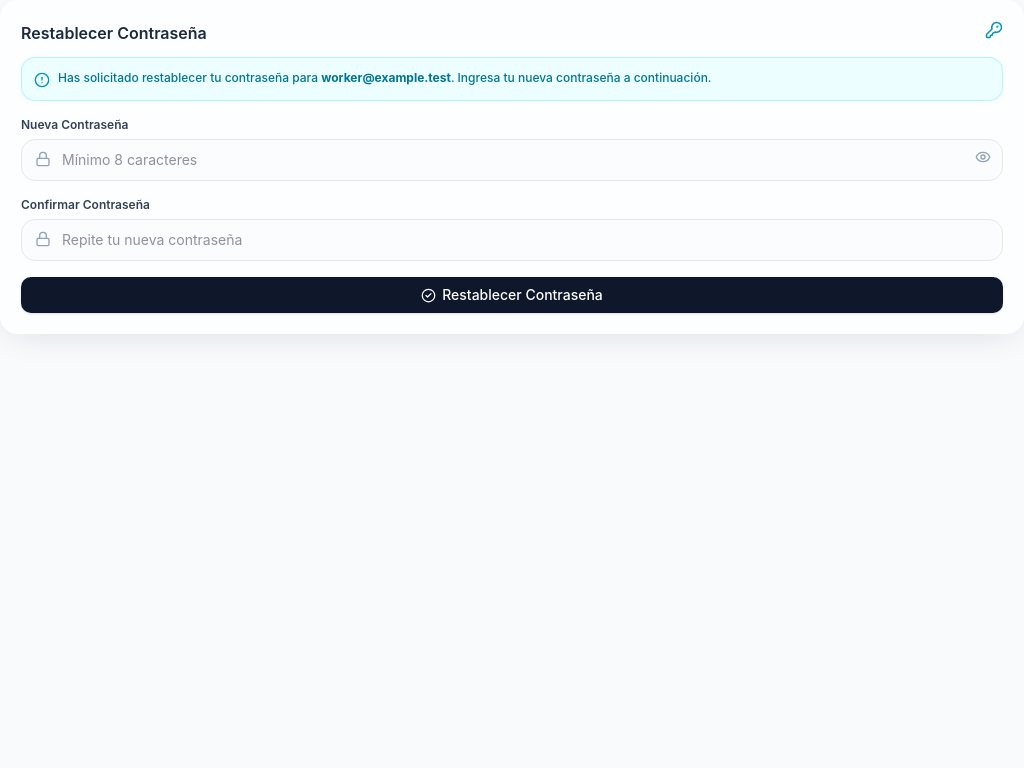
Test: WorkerRecoveryPassword › rejects a password without an allowed symbol before calling Auth
Type "Abcdefg1" into the password field with placeholder "Mínimo 8 caracteres".
click(512, 160); type("Abcdefg1")  # box [21,139,1003,181]
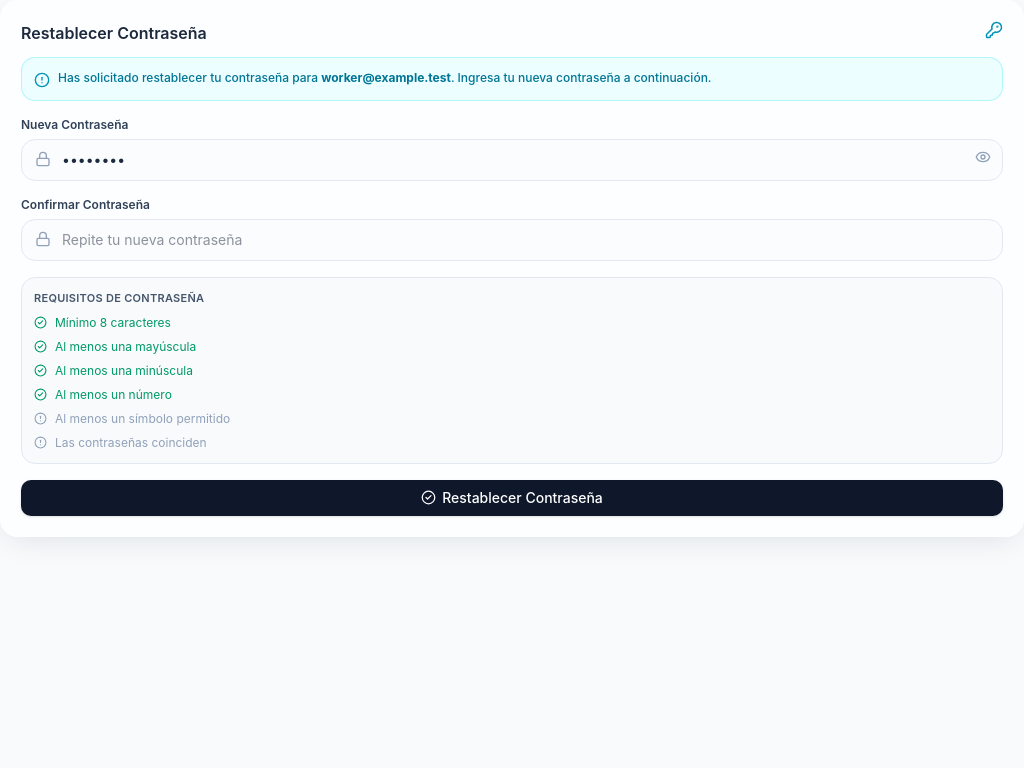
Type "Abcdefg1" into the password field with placeholder "Repite tu nueva contraseña".
click(512, 240); type("Abcdefg1")  # box [21,219,1003,261]
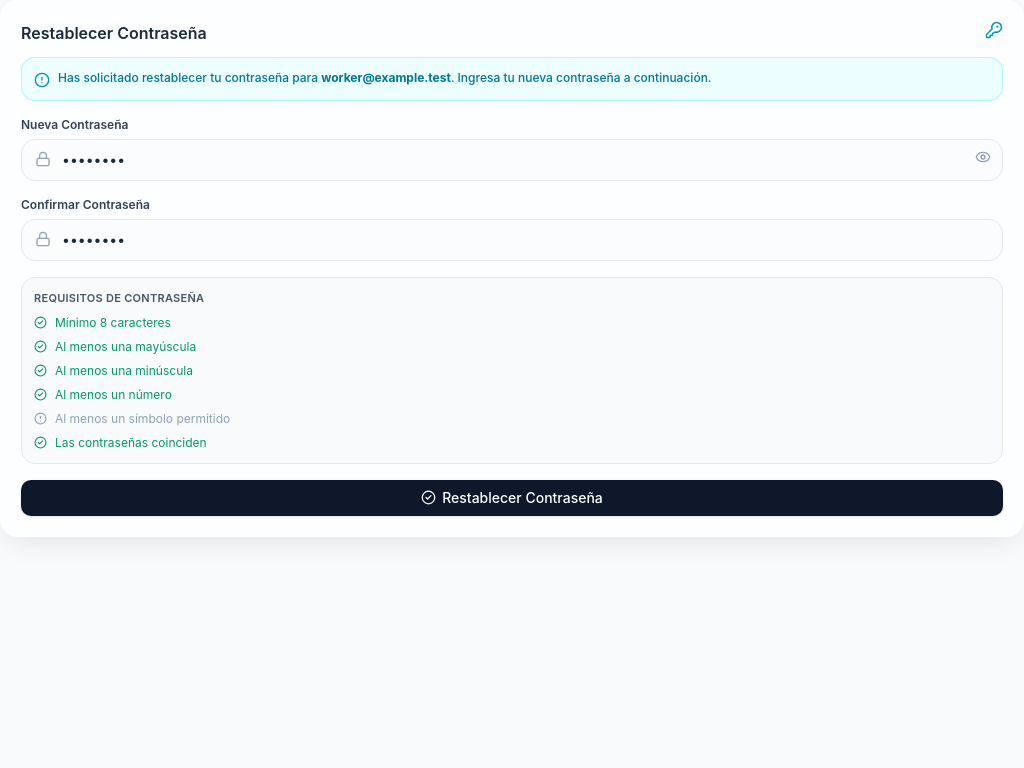
Click the button "Restablecer Contraseña".
click(512, 498)  # box [21,480,1003,516]
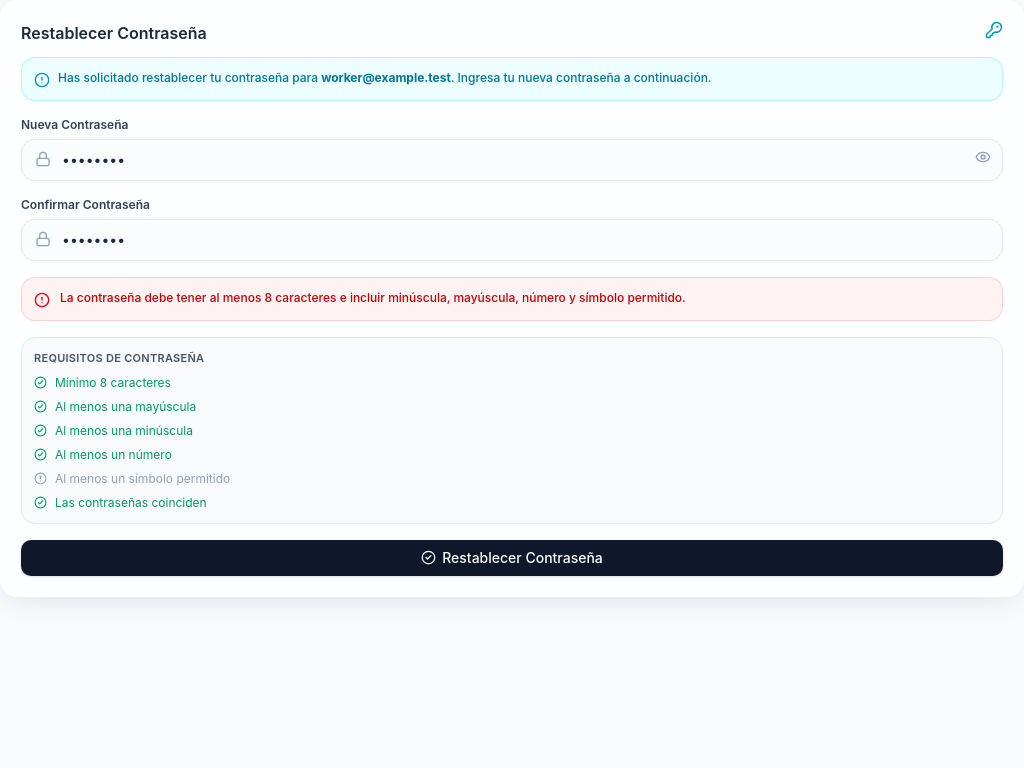
Check: the text "La contraseña debe tener al menos 8 caracteres e incluir minúscula, mayúscula, número y símbolo permitido." is shown, box [60,290,686,305]
